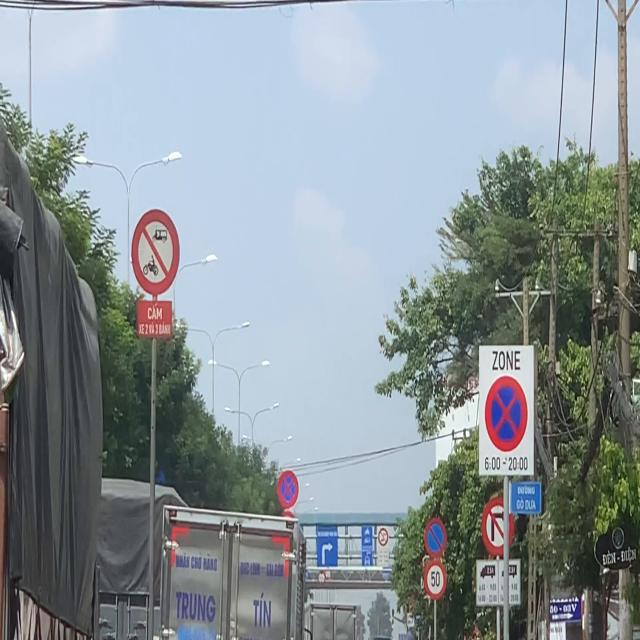Cam con lai: (129, 208, 181, 296), (378, 527, 388, 547)
Cam do: (423, 516, 447, 558)
Cam dung va do: (483, 373, 529, 454), (276, 469, 300, 510)
Cam re phai: (481, 496, 514, 556)
Chieu cao toi da: (318, 570, 326, 584)
Toc do toi da: (424, 560, 446, 600)
